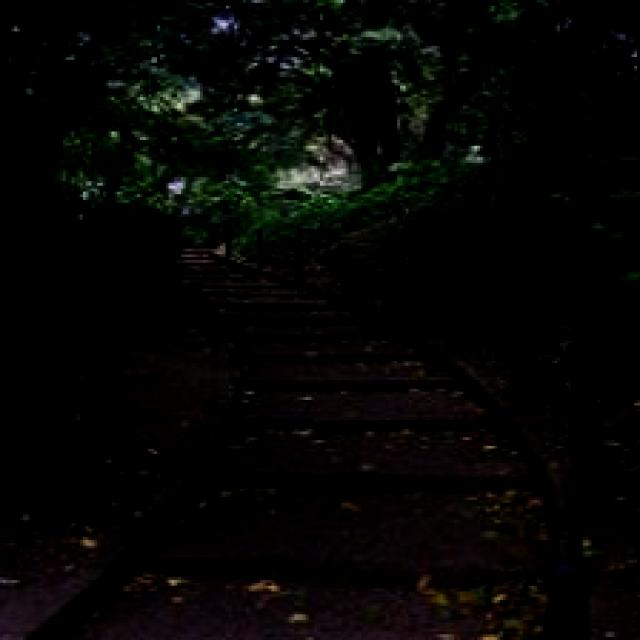upstair: (187, 281, 535, 587)
